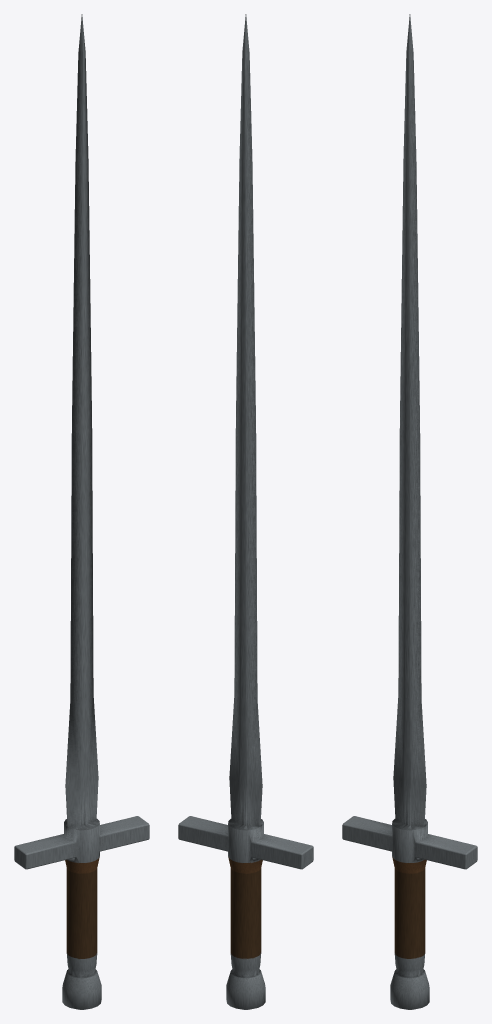
File: estoc-plain.glb
3 renders of one model, left to right at view 1: azimuth 30°, elevation 25°; view 2: azimuth 150°, elevation 25°; view 3: azimuth 330°, elevation 25°, orthographic.
Visible parts, largest first — view 1: estoc-plain; view 2: estoc-plain; view 3: estoc-plain.
Part boxes in pixels (<box>): estoc-plain: <box>14,14,149,1009</box>; estoc-plain: <box>178,14,313,1009</box>; estoc-plain: <box>342,14,477,1009</box>.
Size of the model in its own units: 0.168 by 1.28 by 0.046.
1 material, 1 textured.
